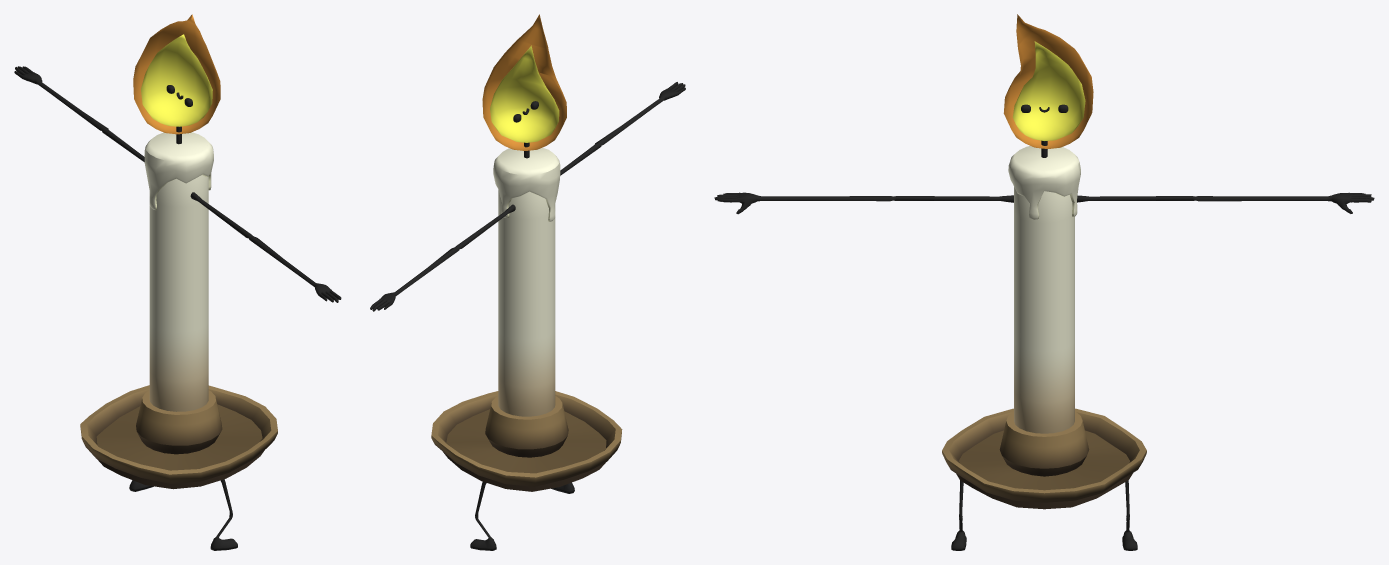
Rendered from Candle Character.glb.
3 renders of one model, left to right at view 1: azimuth 30°, elevation 25°; view 2: azimuth 150°, elevation 25°; view 3: azimuth 270°, elevation 25°, orthographic. The views are drawn at different scales.
Parts seen in each view (by area): view 1: _100Avatars_165_CoolCandle; view 2: _100Avatars_165_CoolCandle; view 3: _100Avatars_165_CoolCandle.
Boxes of the visible parts, x1,y1,x2,y2 form: _100Avatars_165_CoolCandle: [14, 14, 341, 550]; _100Avatars_165_CoolCandle: [370, 14, 685, 550]; _100Avatars_165_CoolCandle: [714, 14, 1374, 550].
Size of the model in its own units: 2.1 by 5.99 by 6.77.
1 material, 1 textured.
